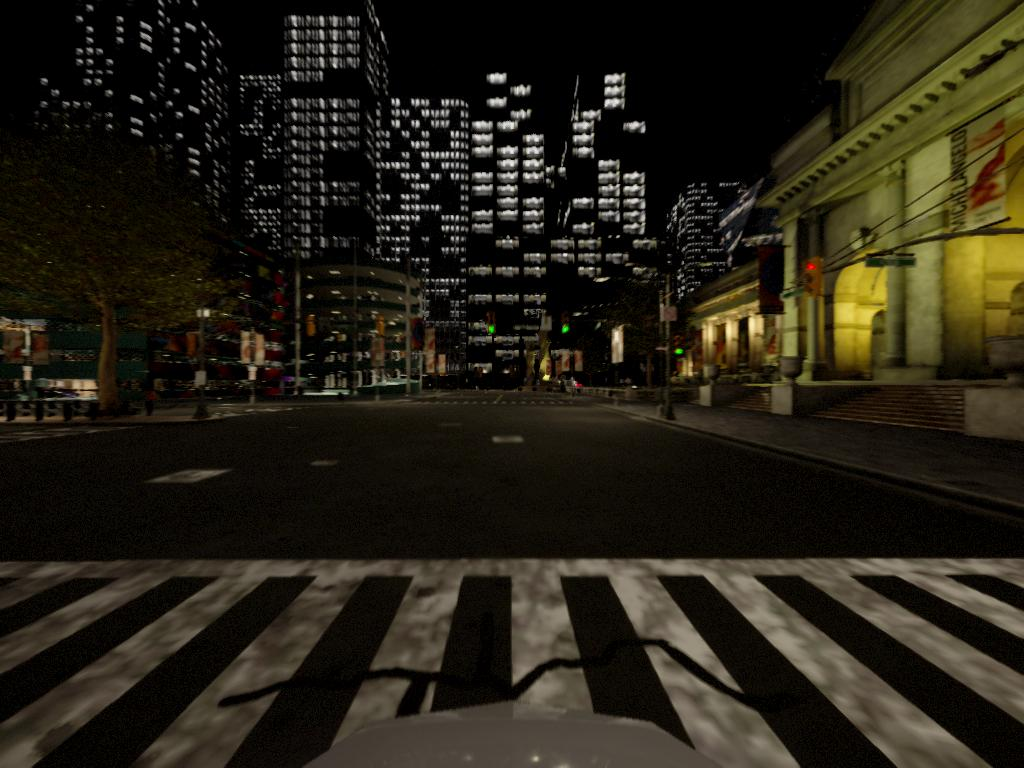traffic_light: (803, 262, 826, 299), (673, 336, 685, 362), (375, 316, 388, 338), (306, 315, 316, 338), (486, 315, 497, 335), (563, 314, 570, 337)
